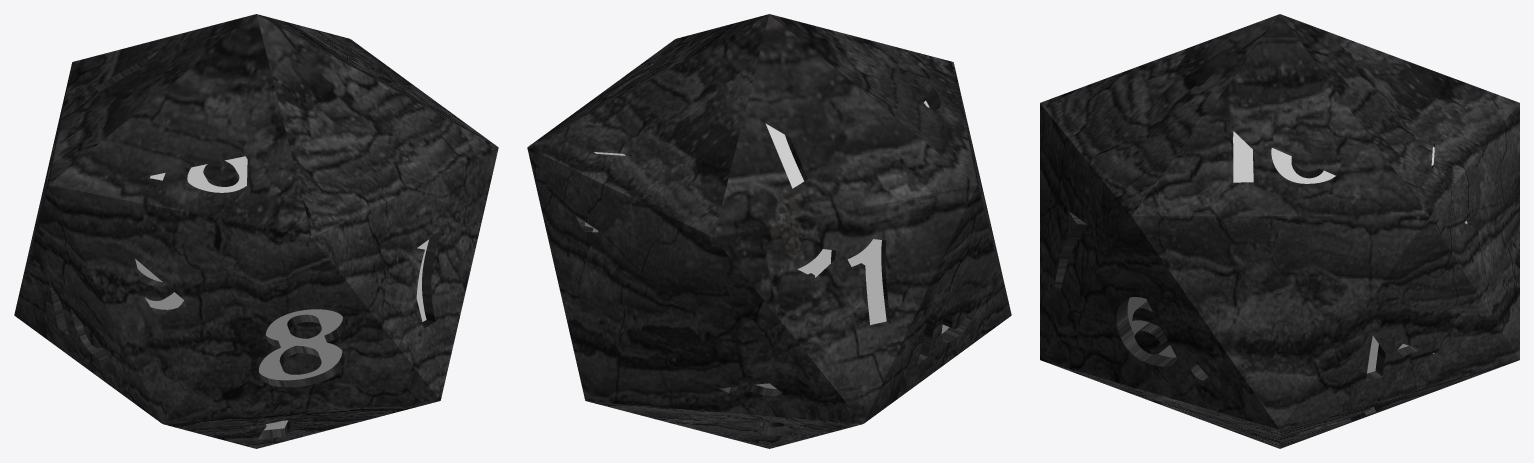
The model's file is Dice20.fbx.
3 renders of one model, left to right at view 1: azimuth 30°, elevation 25°; view 2: azimuth 150°, elevation 25°; view 3: azimuth 270°, elevation 25°, orthographic.
Visible parts, largest first — view 1: D20, 8, 18.2, 9; view 2: D20, 11.2, 19.1, 11.1; view 3: D20, 16.1, 16.2, 6.
Boxes of the visible parts, x1,y1,x2,y2 form: D20: (14, 14, 498, 448); 8: (259, 309, 342, 380); 18.2: (187, 156, 247, 192); 9: (135, 258, 183, 309); D20: (527, 14, 1011, 448); 11.2: (847, 239, 886, 324); 19.1: (766, 124, 804, 188); 11.1: (797, 249, 831, 277); D20: (1040, 14, 1519, 448); 16.1: (1233, 131, 1253, 182); 16.2: (1271, 148, 1335, 183); 6: (1127, 297, 1176, 357).
Bounding box in the file's own units: 2000 × 2000 × 2000.
